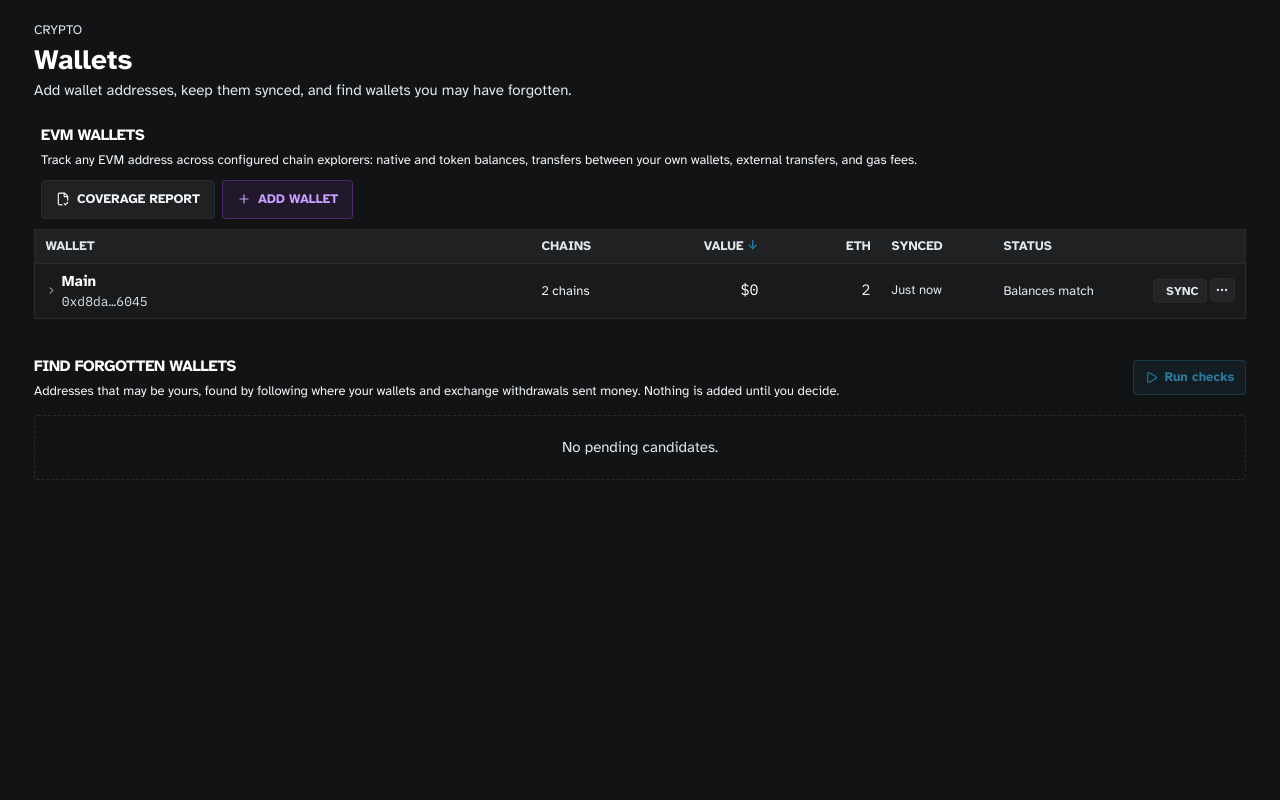
Test: Crypto -> Wallets tab › states plainly when the ledger reproduces the chain
expect the heading "EVM Wallets" is shown: met, box x1=41 y1=125 x2=144 y2=145
expect the text "Balances match" is shown: met, box x1=1004 y1=283 x2=1094 y2=299
What coordinates should you click on to do the following:
click the text "Main"
I would click on:
 (79, 281)
Its box is x1=62 y1=272 x2=96 y2=290.
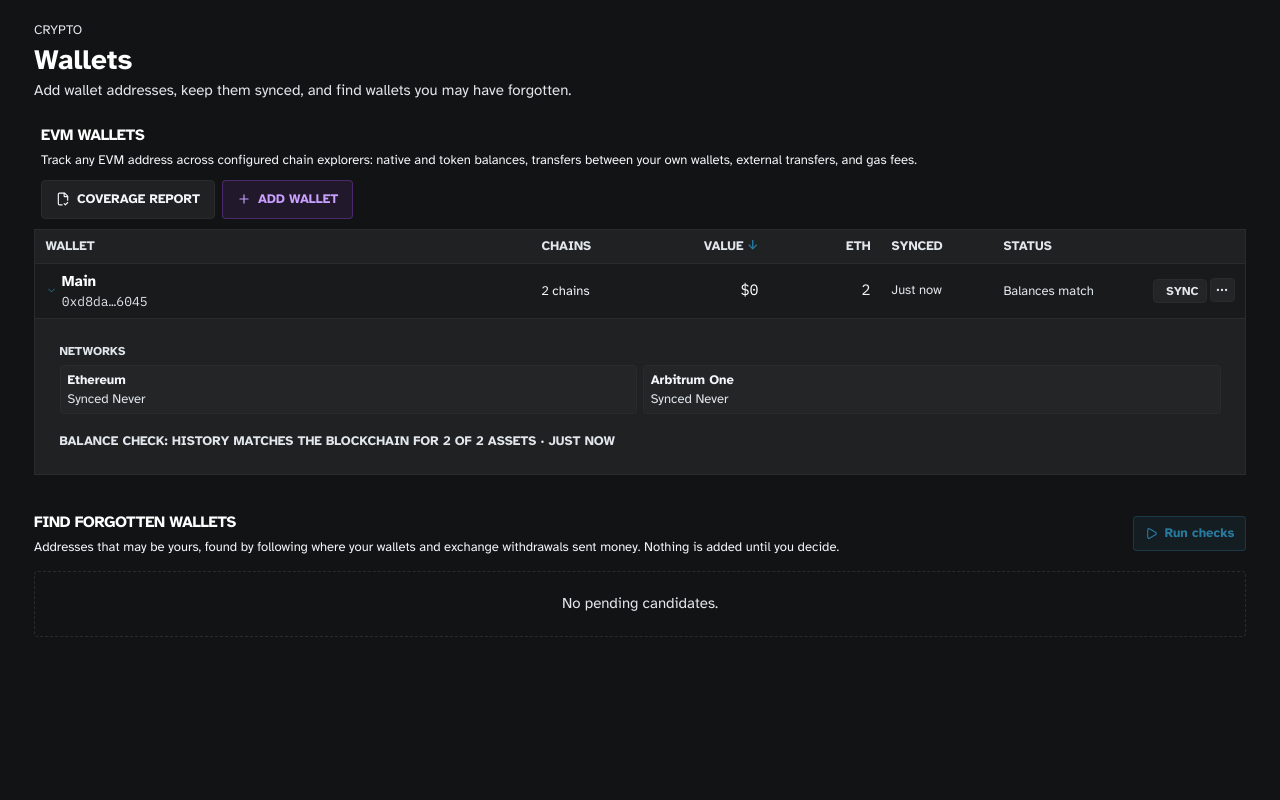
expect the text "history matches the blockchain for 2 of 2 assets" is shown: met, box x1=60 y1=433 x2=615 y2=449
